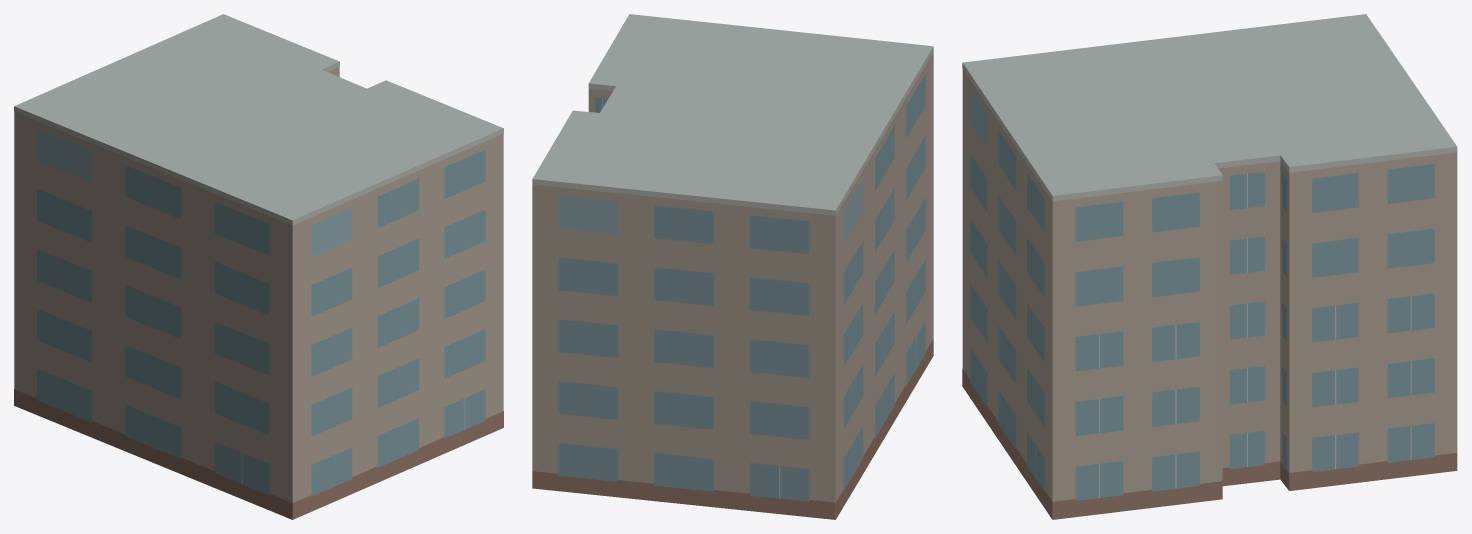
File: survey-upis-32652799.glb
3 renders of one model, left to right at view 1: azimuth 30°, elevation 25°; view 2: azimuth 150°, elevation 25°; view 3: azimuth 270°, elevation 25°, orthographic. The views are drawn at different scales.
Visible parts, largest first — view 1: survey-upis-32652799.tmp; view 2: survey-upis-32652799.tmp; view 3: survey-upis-32652799.tmp.
Part boxes in pixels (x1=…): survey-upis-32652799.tmp: x1=14, y1=14, x2=503, y2=519; survey-upis-32652799.tmp: x1=532, y1=14, x2=933, y2=519; survey-upis-32652799.tmp: x1=962, y1=14, x2=1457, y2=519.
Bounding box in the file's own units: 16.87 × 14 × 19.4.
